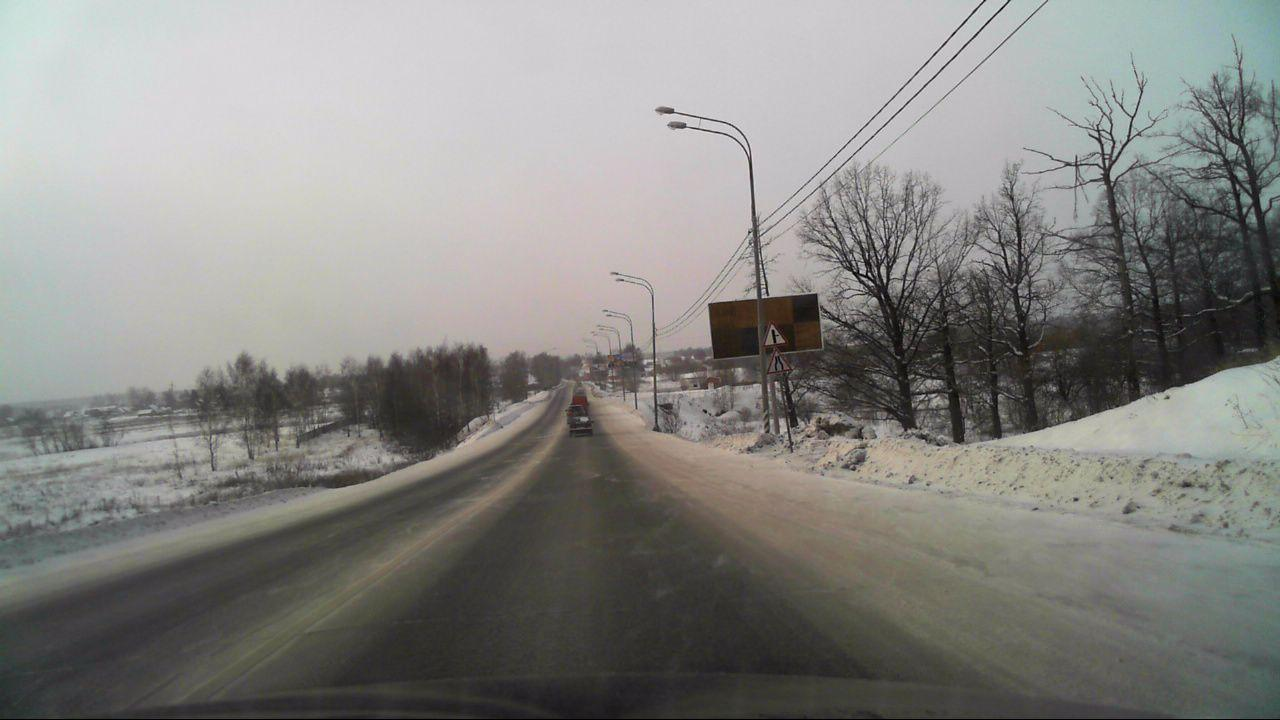1_20_1: (764, 350, 793, 374)
2_1: (608, 355, 614, 361)
2_3_2: (760, 319, 790, 347)
4_1_1: (608, 362, 615, 368)
